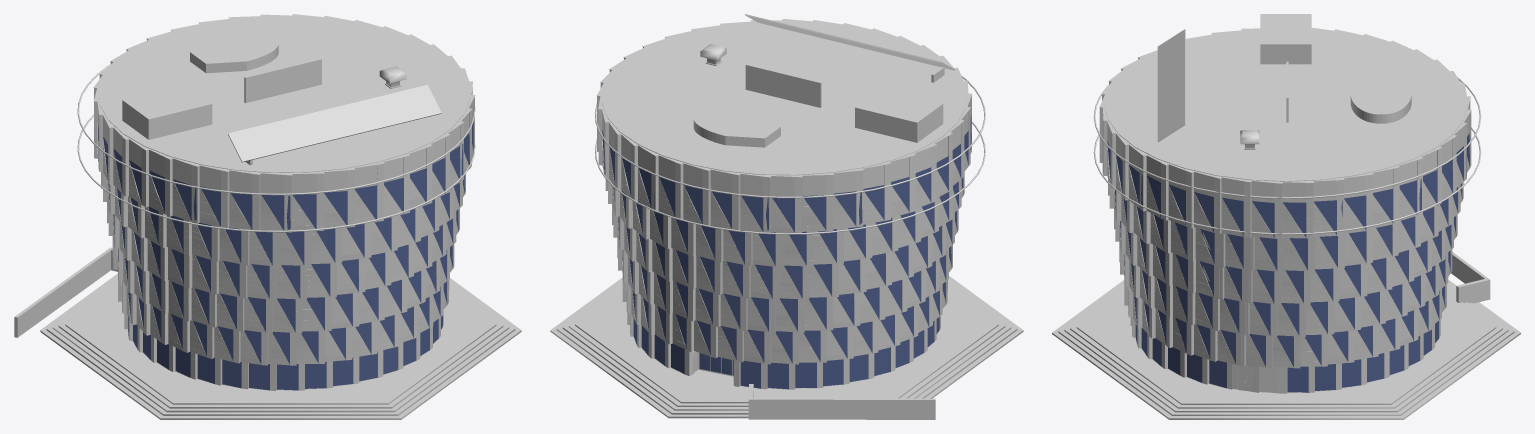
File: kuggenMain.fbx
3 views of the same model, side by side, from view 1: azimuth 30°, elevation 25°; view 2: azimuth 150°, elevation 25°; view 3: azimuth 270°, elevation 25° (orthographic). The views are drawn at different scales.
Visible parts, largest first — view 1: KuggenMain; view 2: KuggenMain; view 3: KuggenMain.
Boxes of the visible parts, x1,y1,x2,y2 form: KuggenMain: (14, 14, 521, 419); KuggenMain: (550, 14, 1023, 419); KuggenMain: (1052, 14, 1520, 419).
Size of the model in its own units: 4369 by 2815 by 4678.
